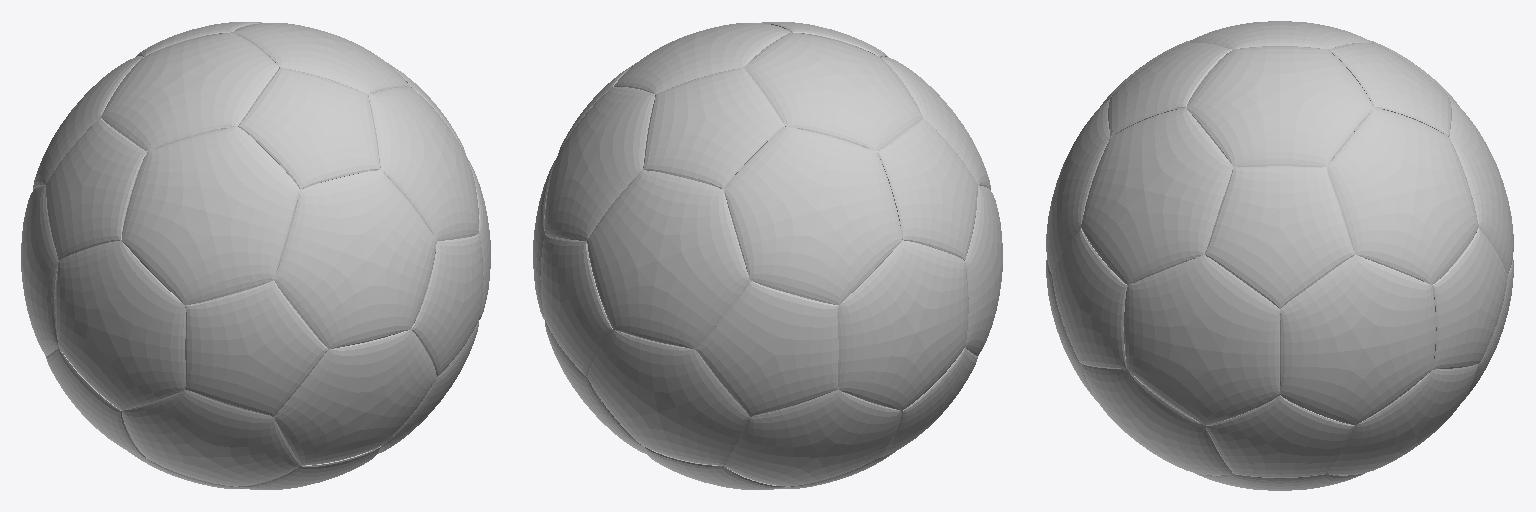
The model's file is soccerball.obj.
The picture shows the model from 3 angles: view 1: azimuth 30°, elevation 25°; view 2: azimuth 150°, elevation 25°; view 3: azimuth 270°, elevation 25°; orthographic projection.
Parts seen in each view (by area): view 1: soccerball.003; view 2: soccerball.003; view 3: soccerball.003.
Boxes of the visible parts, x1=… form: soccerball.003: x1=21, y1=22, x2=490, y2=489; soccerball.003: x1=533, y1=22, x2=1002, y2=489; soccerball.003: x1=1046, y1=21, x2=1513, y2=490.
Bounding box in the file's own units: 11.06 × 11.06 × 11.06.